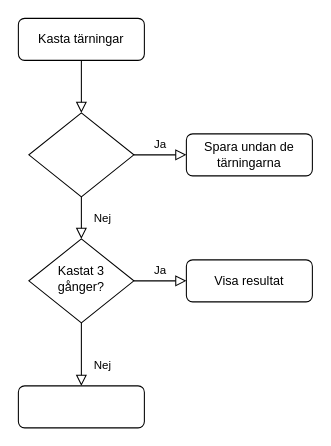
Image size: 331x446. Some labels were removed from this diagram. The shapes that lost their labels are listed below. From the top down, each one's box as (x1, y1, x2, y2) in pixels, then its label:
(28, 112, 134, 197): Spara tärningar?
(17, 385, 144, 428): Kasta igen
